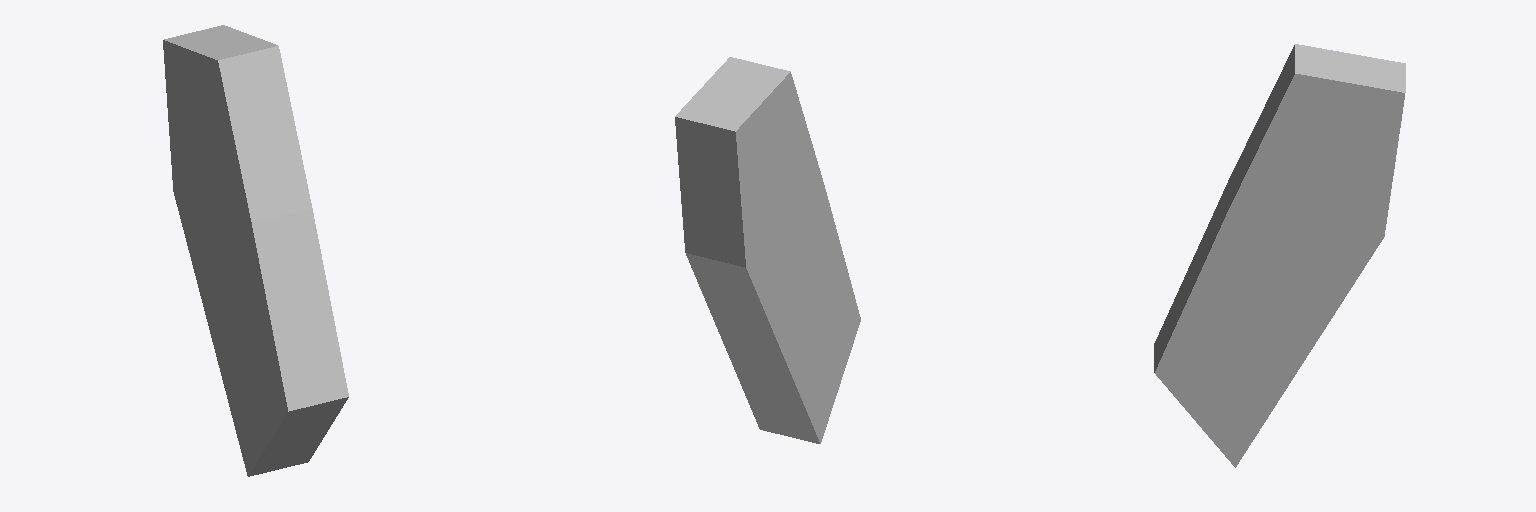
The model's file is AKS74UMag_ConvexMesh.obj.
3 views of the same model, side by side, from view 1: azimuth 30°, elevation 25°; view 2: azimuth 150°, elevation 25°; view 3: azimuth 270°, elevation 25° (orthographic).
Parts seen in each view (by area): view 1: Box001; view 2: Box001; view 3: Box001.
Part boxes in pixels (left/top/right/bottom): Box001: left=163, top=25, right=348, bottom=476; Box001: left=675, top=57, right=860, bottom=443; Box001: left=1154, top=44, right=1405, bottom=467.
Size of the model in its own units: 0.0315 by 0.1952 by 0.1125.